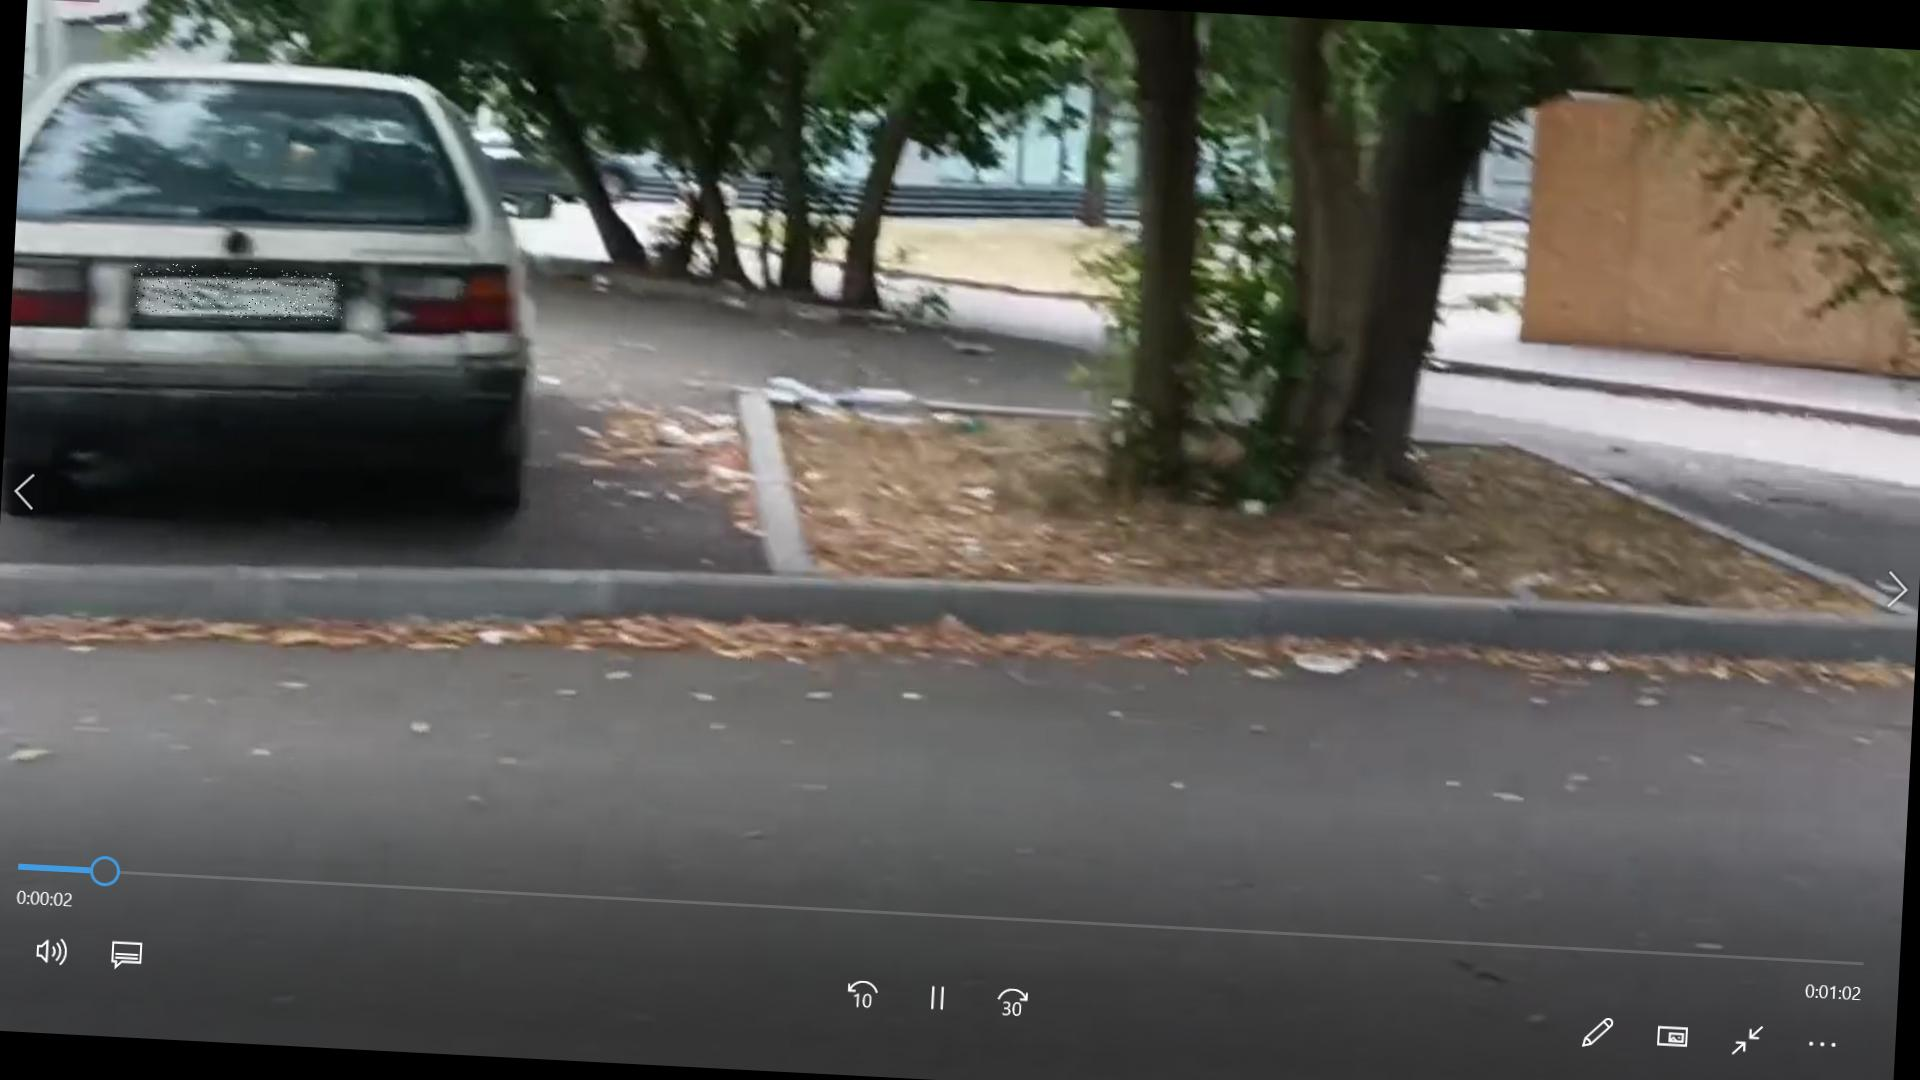plate: (133, 264, 346, 325)
